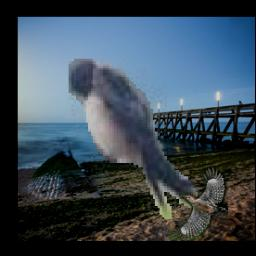Swallow: (70, 60, 200, 222)
Woodpecker: (169, 168, 228, 241)
